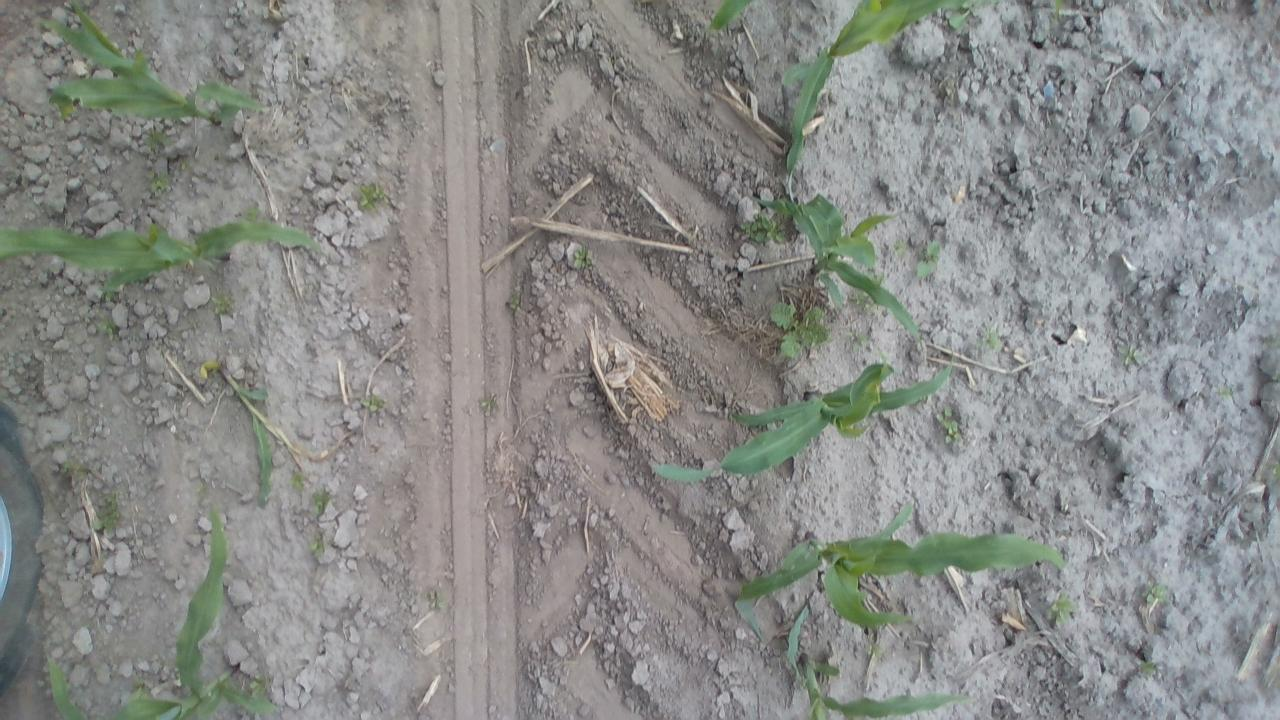Maize: (734, 496, 1073, 668), (46, 501, 300, 718), (645, 343, 964, 487), (774, 1, 966, 182), (749, 186, 931, 356), (34, 0, 270, 127), (0, 211, 326, 300), (782, 596, 976, 720), (205, 362, 283, 514), (704, 0, 756, 34)
Weeds: (770, 302, 830, 362), (737, 209, 790, 250), (92, 493, 125, 537), (910, 238, 944, 280), (936, 404, 966, 448), (354, 178, 389, 214), (1046, 592, 1076, 630), (1113, 340, 1145, 370), (421, 583, 450, 616), (354, 391, 390, 417), (946, 1, 976, 32), (139, 124, 171, 152), (976, 327, 1006, 356), (570, 242, 598, 272), (308, 486, 334, 517), (58, 458, 92, 481), (1141, 579, 1169, 606), (247, 672, 273, 700), (210, 289, 236, 317), (94, 314, 122, 339), (284, 468, 310, 494), (146, 169, 173, 194), (308, 534, 333, 560), (476, 390, 499, 417), (52, 102, 78, 124), (1213, 382, 1238, 404), (864, 638, 888, 660), (502, 288, 522, 314), (886, 236, 909, 258), (241, 202, 265, 222), (850, 330, 871, 352), (851, 294, 877, 310), (1138, 659, 1158, 679), (1264, 458, 1276, 488), (130, 46, 148, 63), (177, 162, 192, 174)
